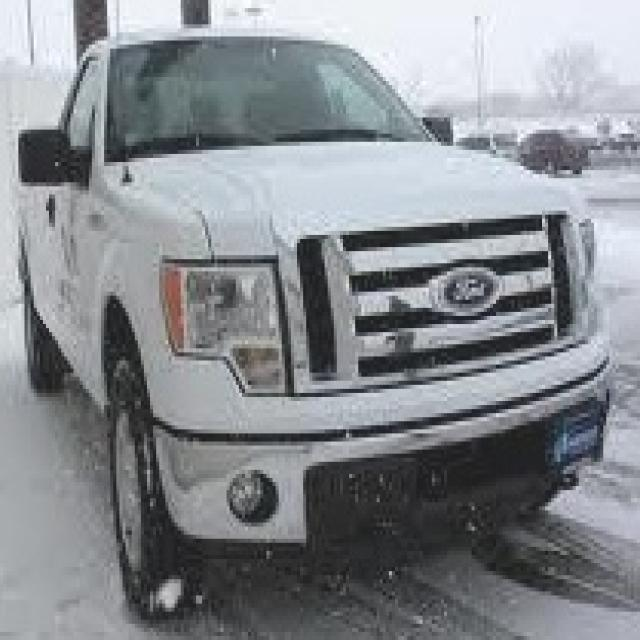CMT: (17, 18, 613, 593)
